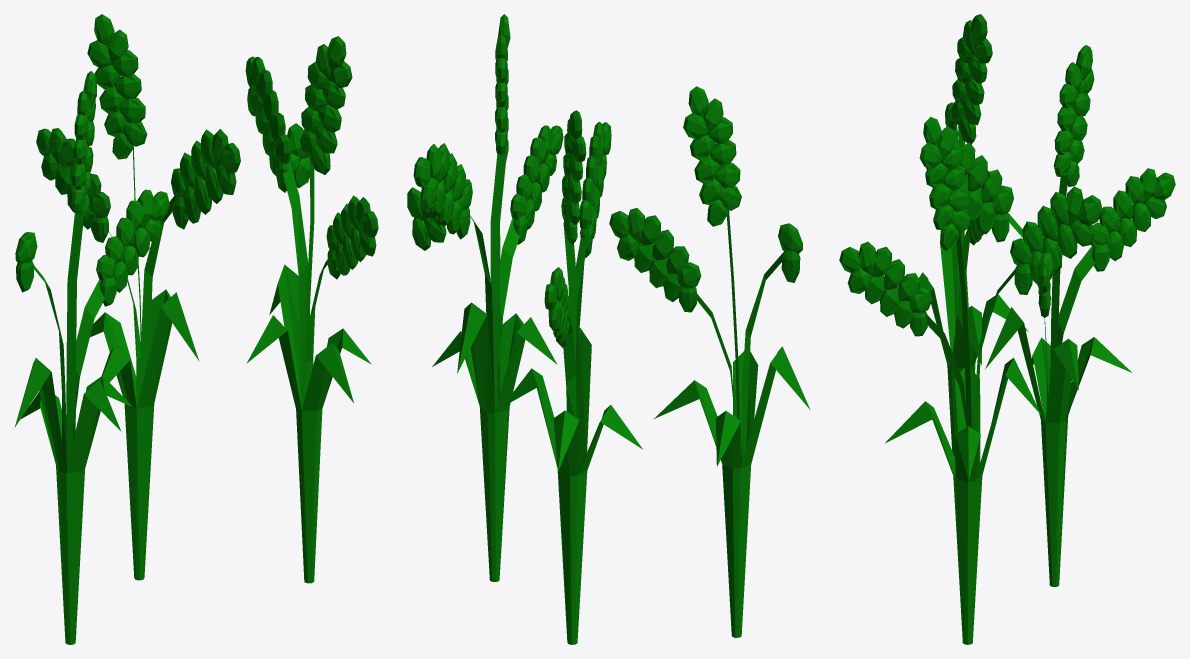
The model's file is ArrozF2.glb.
3 views of the same model, side by side, from view 1: azimuth 30°, elevation 25°; view 2: azimuth 150°, elevation 25°; view 3: azimuth 270°, elevation 25° (orthographic). The views are drawn at different scales.
Visible parts, largest first — view 1: ArrozF2; view 2: ArrozF2; view 3: ArrozF2.
Boxes of the visible parts, x1,y1,x2,y2 form: ArrozF2: (14, 14, 378, 644); ArrozF2: (407, 14, 810, 644); ArrozF2: (839, 14, 1175, 644).
Size of the model in its own units: 0.584 by 0.8382 by 0.4816.
Materials: 1 (1 with a texture image).
